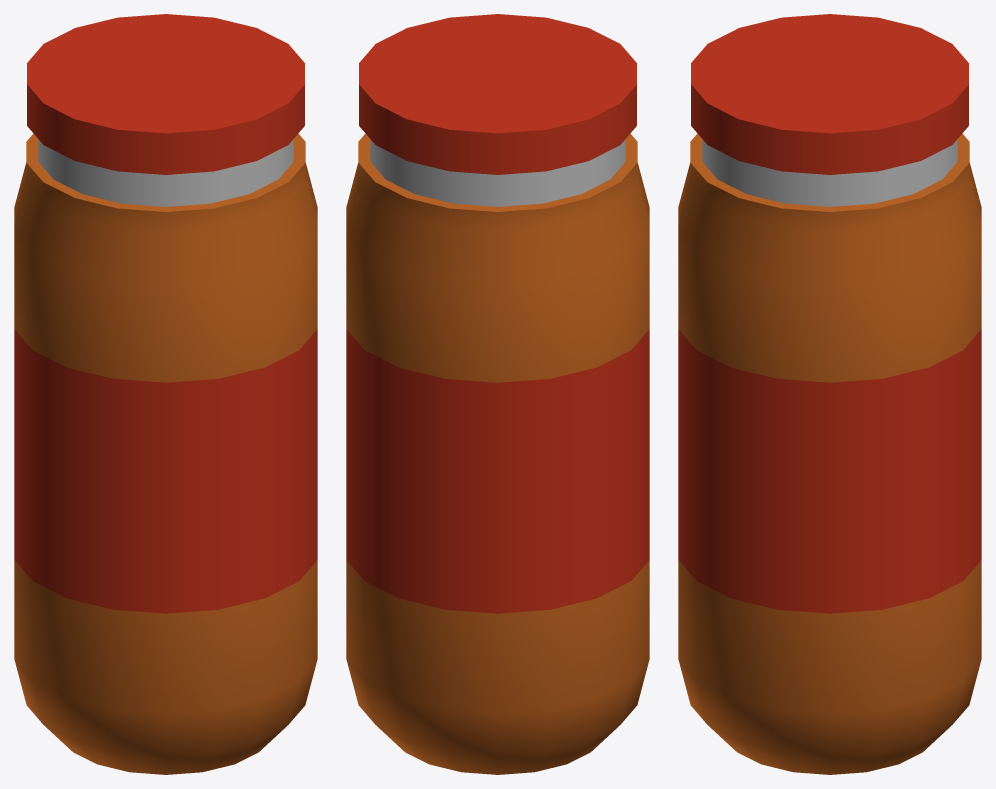
File: Boite_Pillule.fbx
3 views of the same model, side by side, from view 1: azimuth 30°, elevation 25°; view 2: azimuth 150°, elevation 25°; view 3: azimuth 270°, elevation 25° (orthographic).
Visible parts, largest first — view 1: Boite_Pillule; view 2: Boite_Pillule; view 3: Boite_Pillule.
Boxes of the visible parts, x1,y1,x2,y2 form: Boite_Pillule: (14,14,317,774); Boite_Pillule: (346,14,649,774); Boite_Pillule: (678,14,981,774).
Size of the model in its own units: 5.77 by 13.58 by 5.69.
